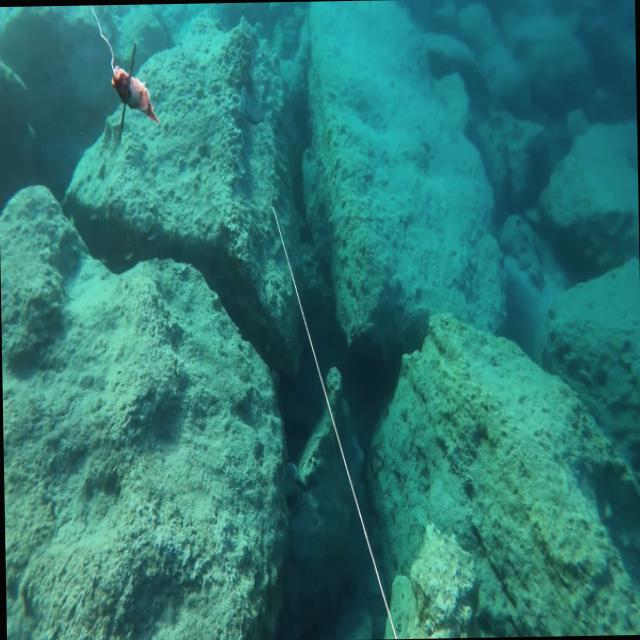Balon Baligi: (238, 83, 264, 123)
